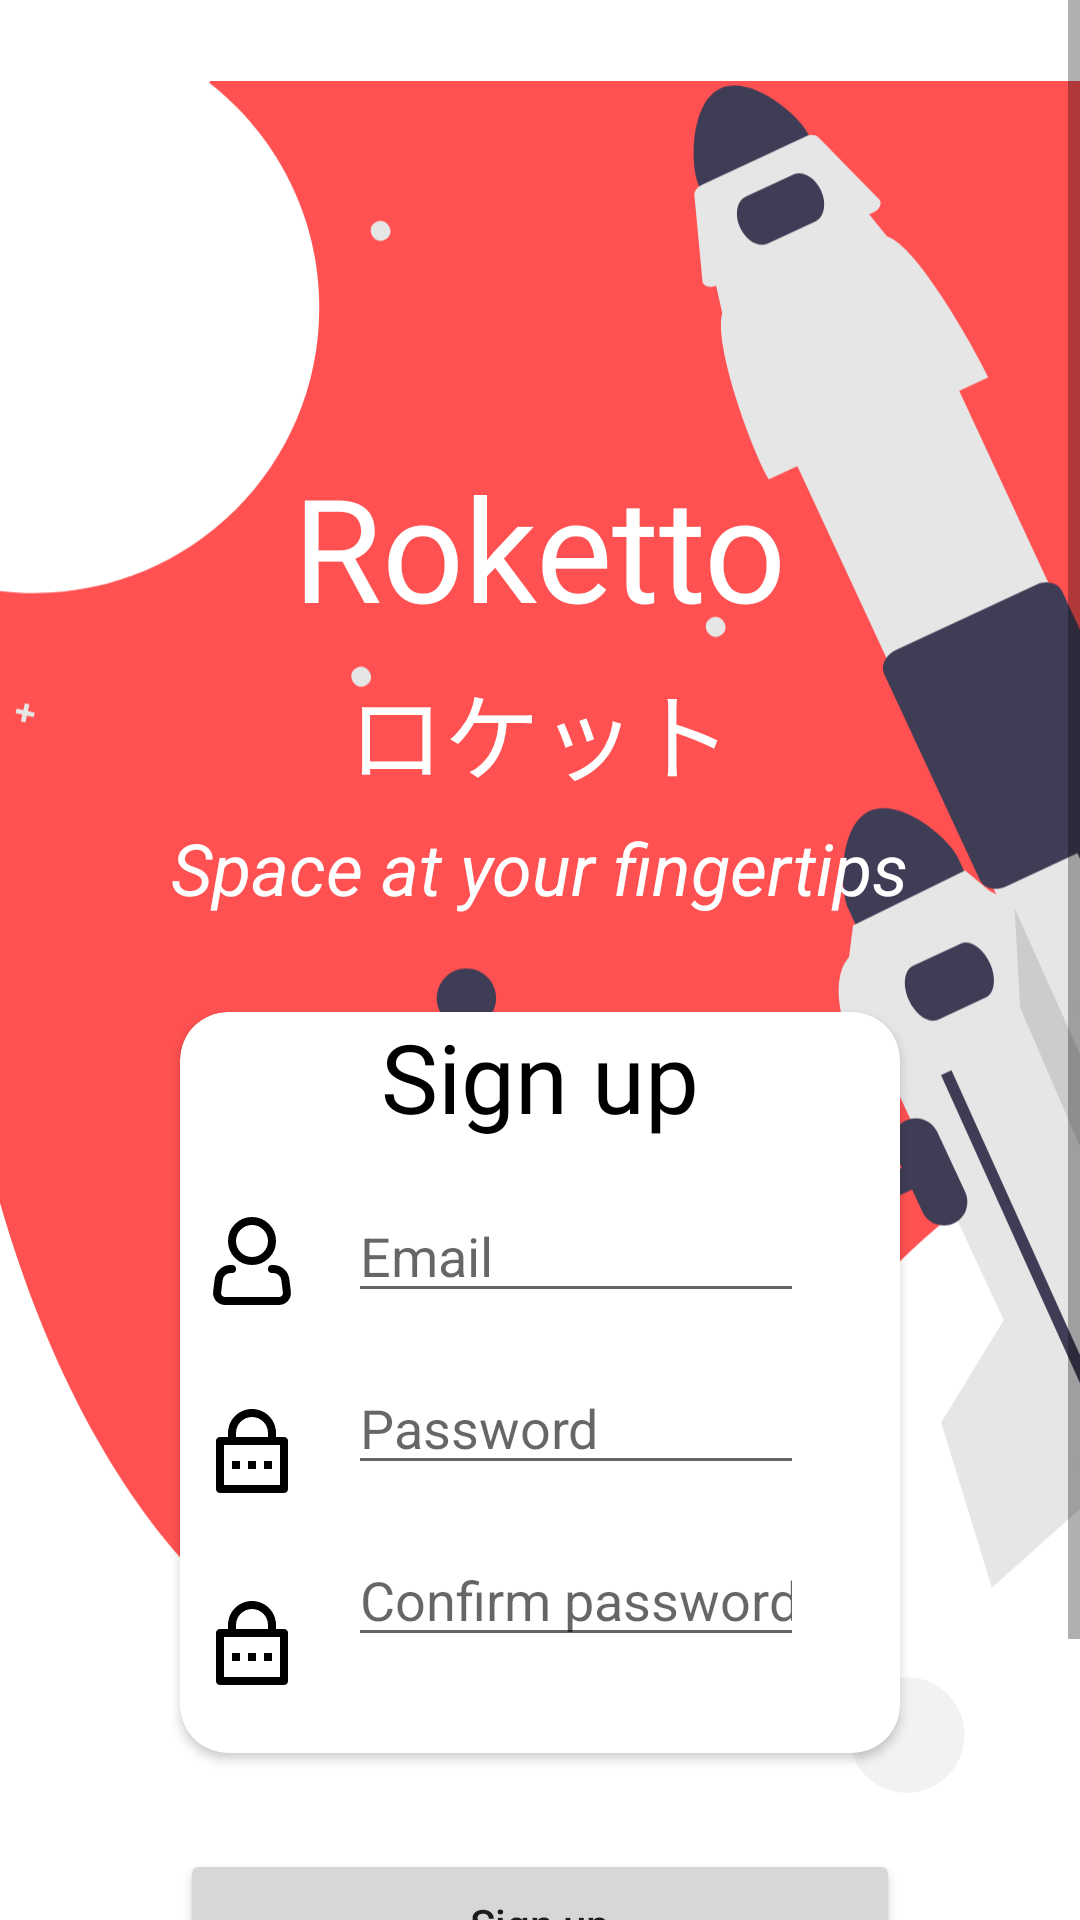

Screen size 1080px x 1920px. Icon name, then its center in pixels as (x,y):
akar person: (252,1261)
